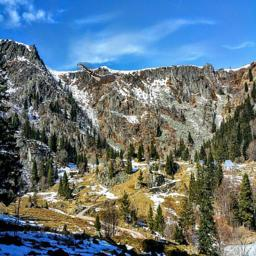Cuckoo: (77, 62, 125, 92)
